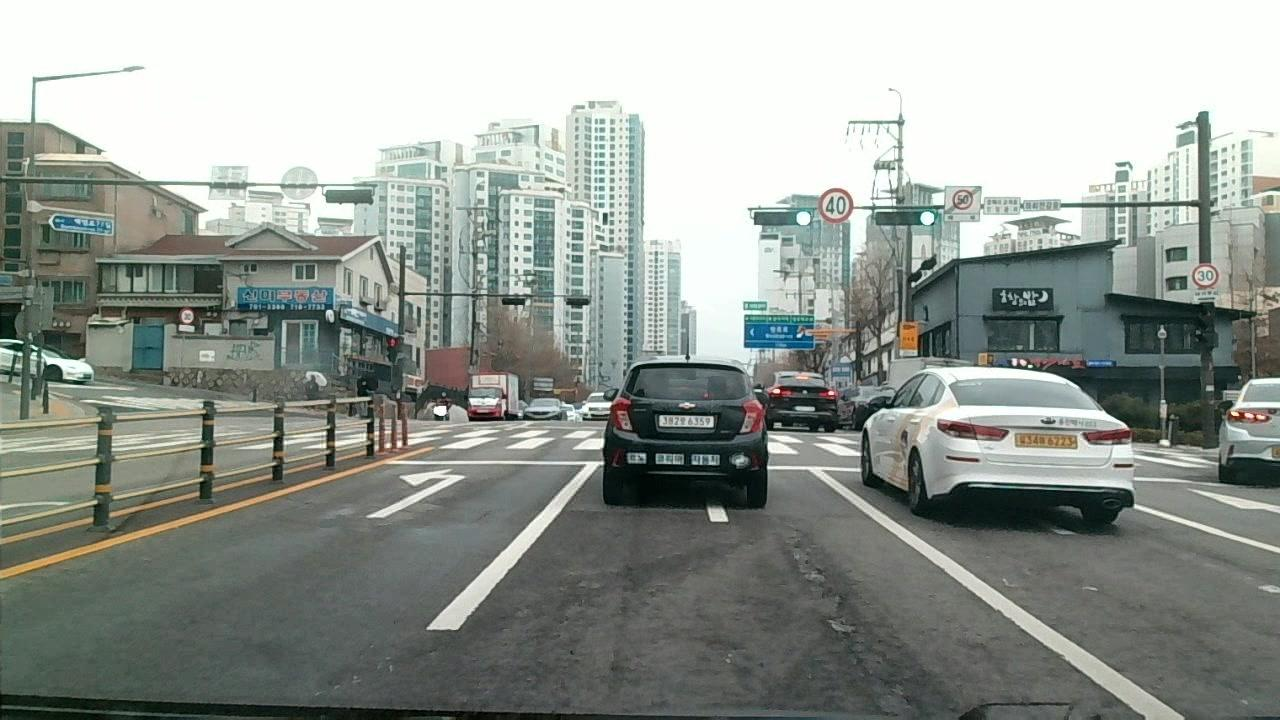vcrack: (832, 625, 928, 714), (785, 519, 851, 623)
